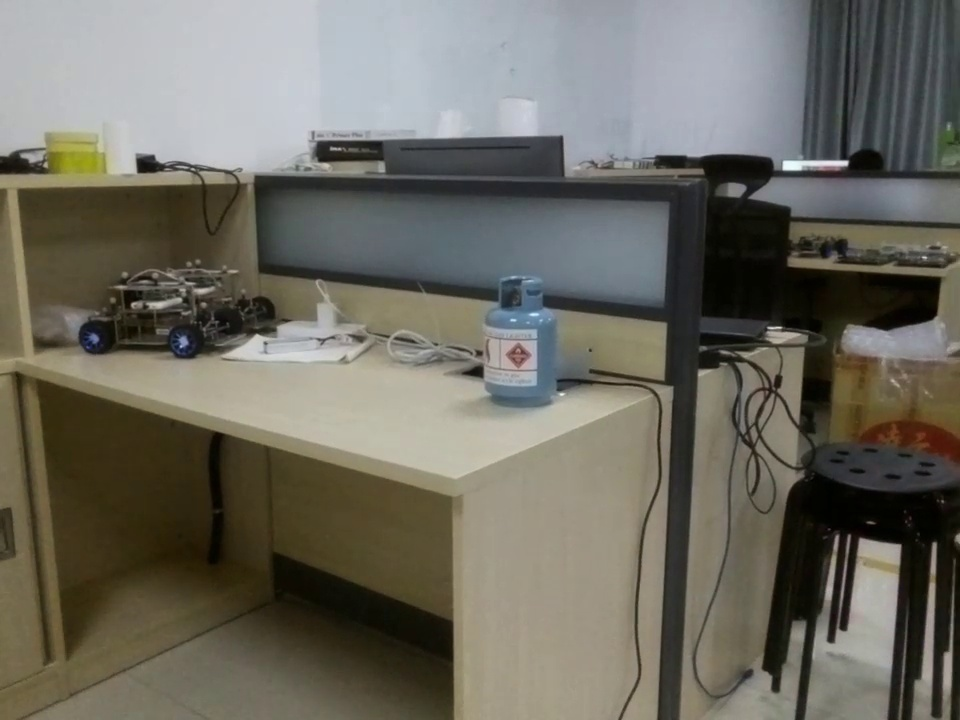gas tank: (468, 271, 575, 412)
